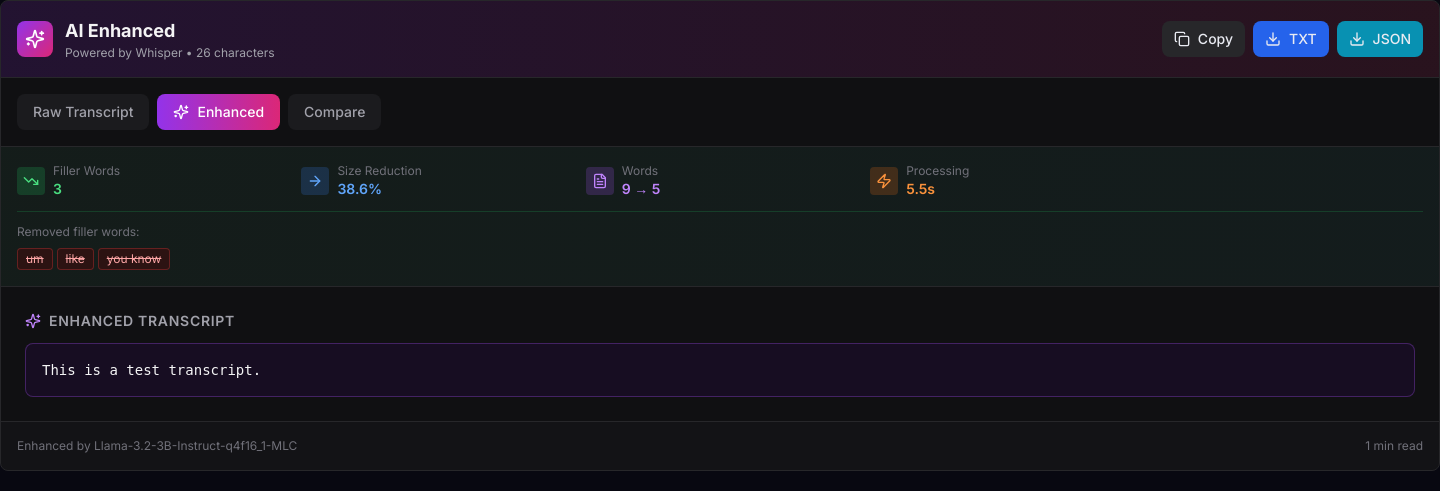
Test case: EnhancedTranscriptionViewer › View Mode Toggle › should switch to comparison view when clicked
The image size is (1440, 491).
Click the button "Compare" at x=335, y=112, box [288,94,381,130]
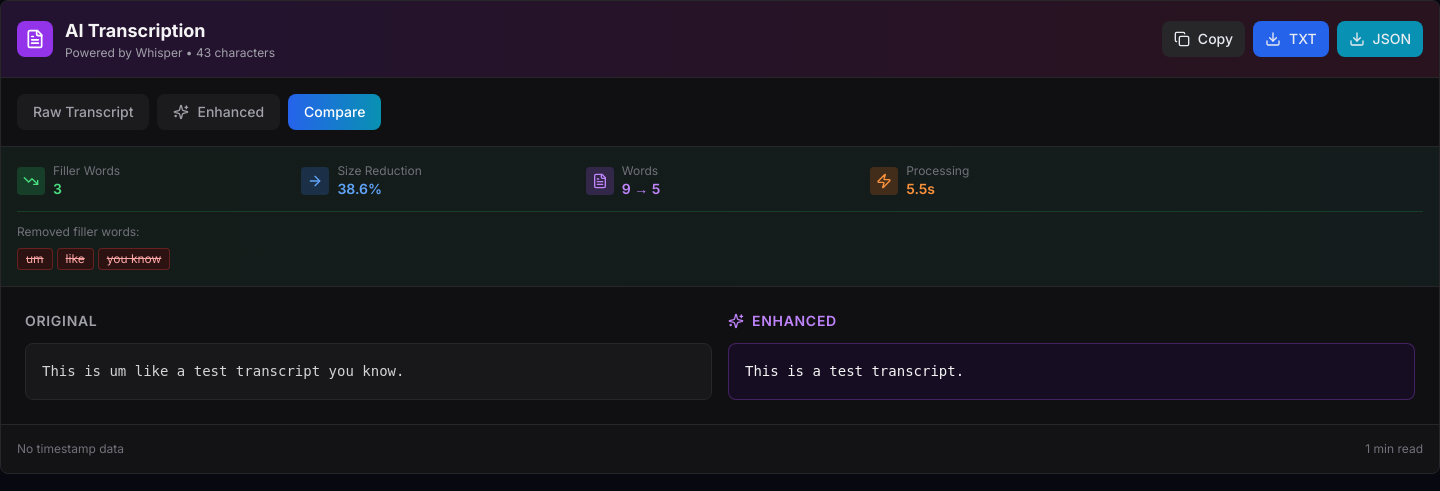
Expected: the heading "Original" is shown, [25,312,98,329]
